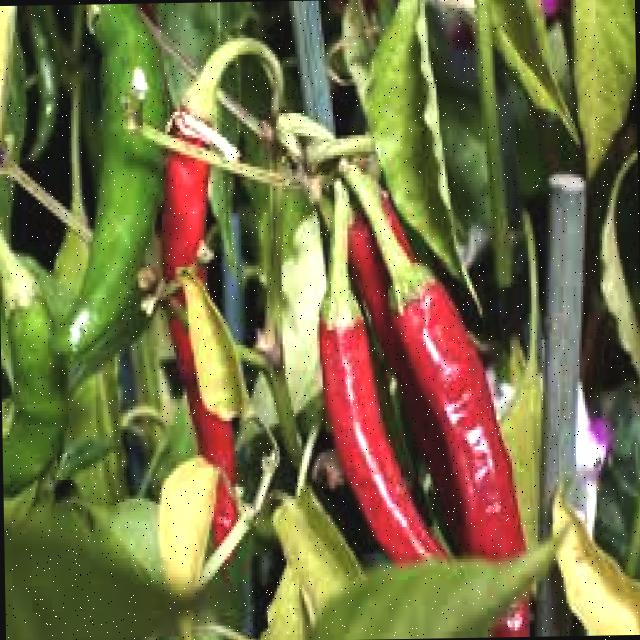healthy: (265, 69, 542, 640)
